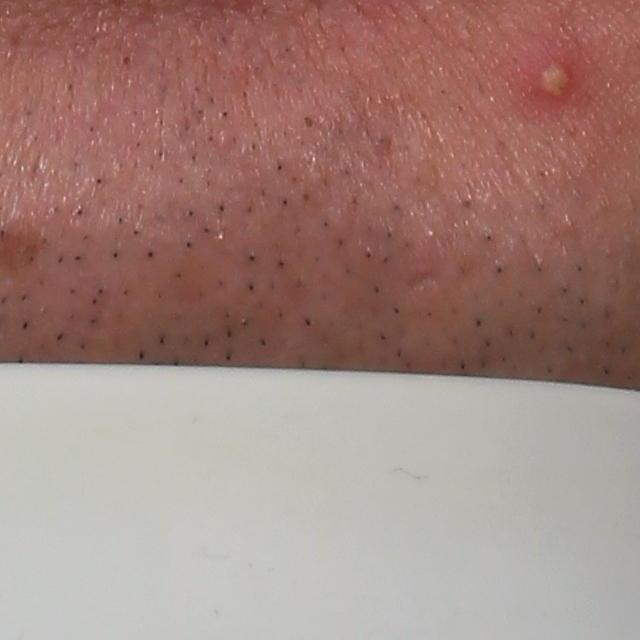pustule: (522, 47, 582, 117)
